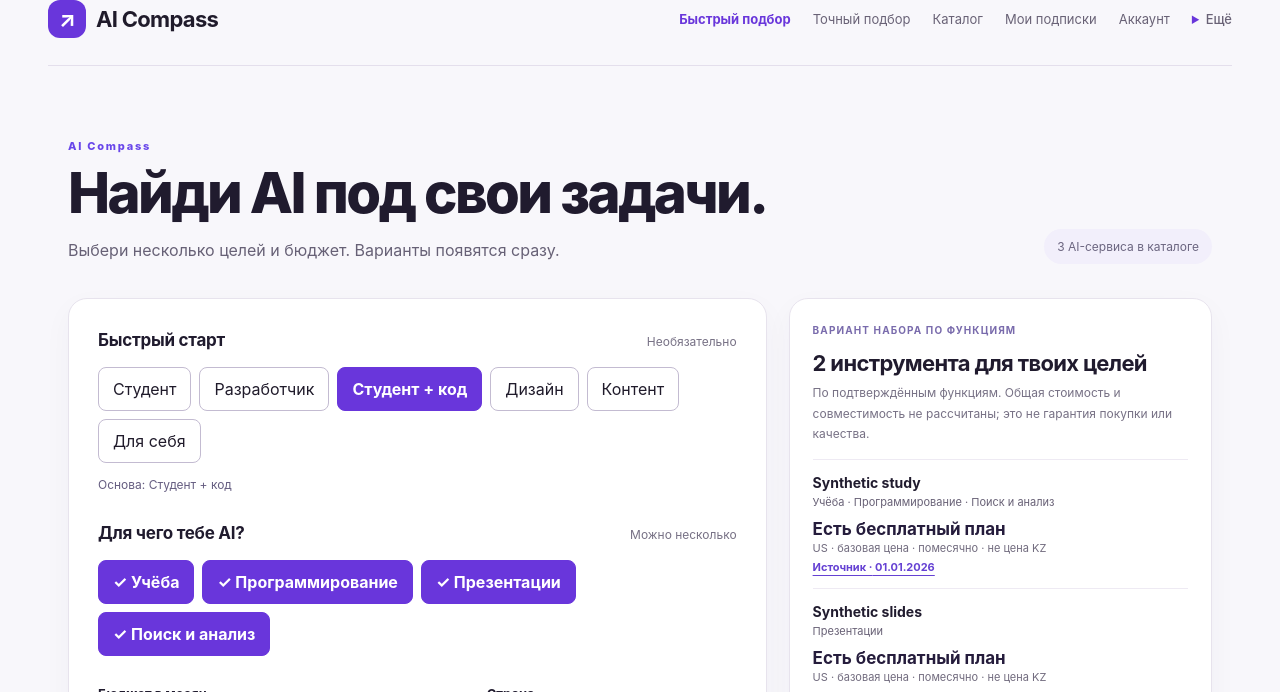
Test: quick and advanced navigation preserves only the mounted app draft without auto preview
Click the button "✓ Презентации" at (498,582), box [421, 560, 576, 604]
(page scrolled)
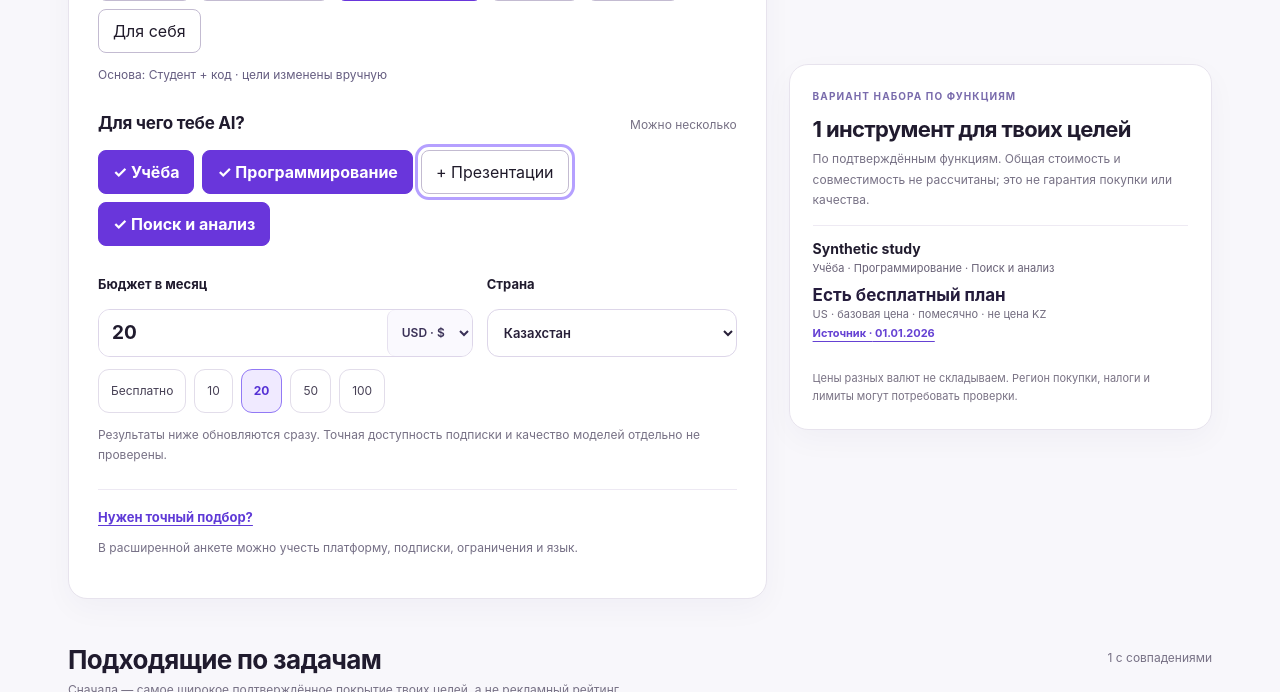
Replace the text in the field named "Месячный бюджет" with "42.50" at (243,333), box [99, 310, 387, 356]
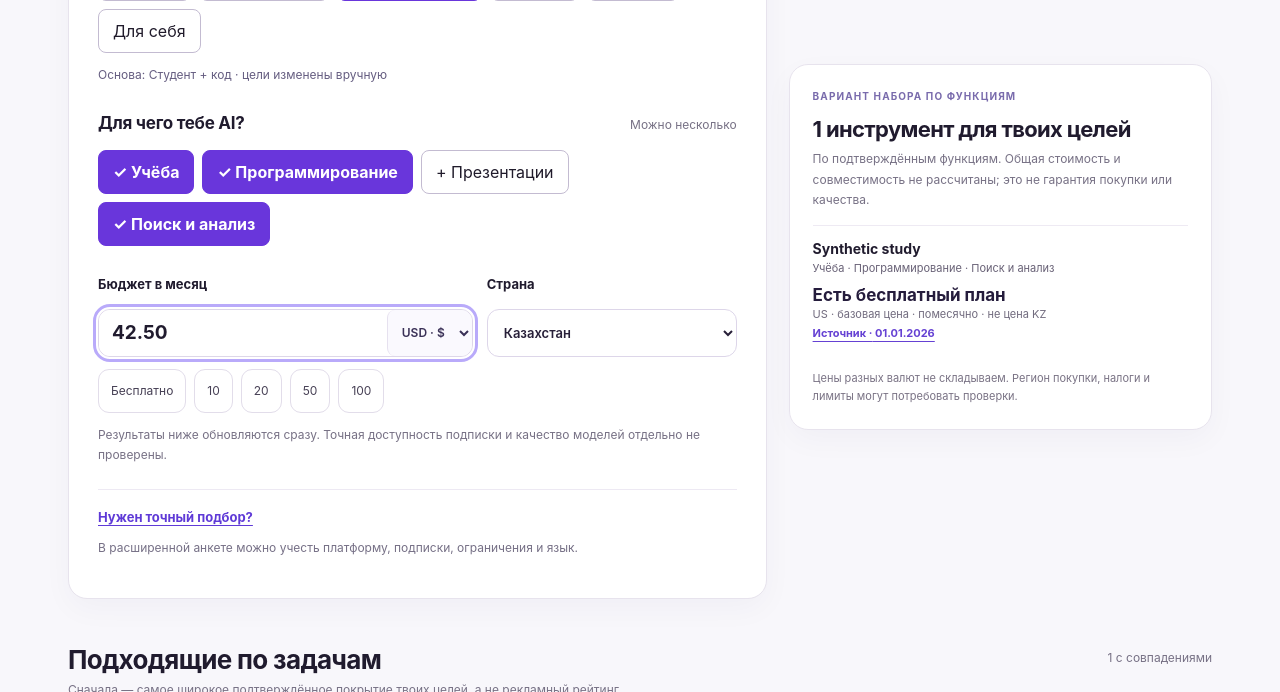
Select "CNY · ¥" in the dropdown named "Валюта бюджета" at (429,333), box [387, 310, 472, 356]
Click the link "Нужен точный подбор?" at (175,517), box [98, 509, 253, 525]
(page scrolled)
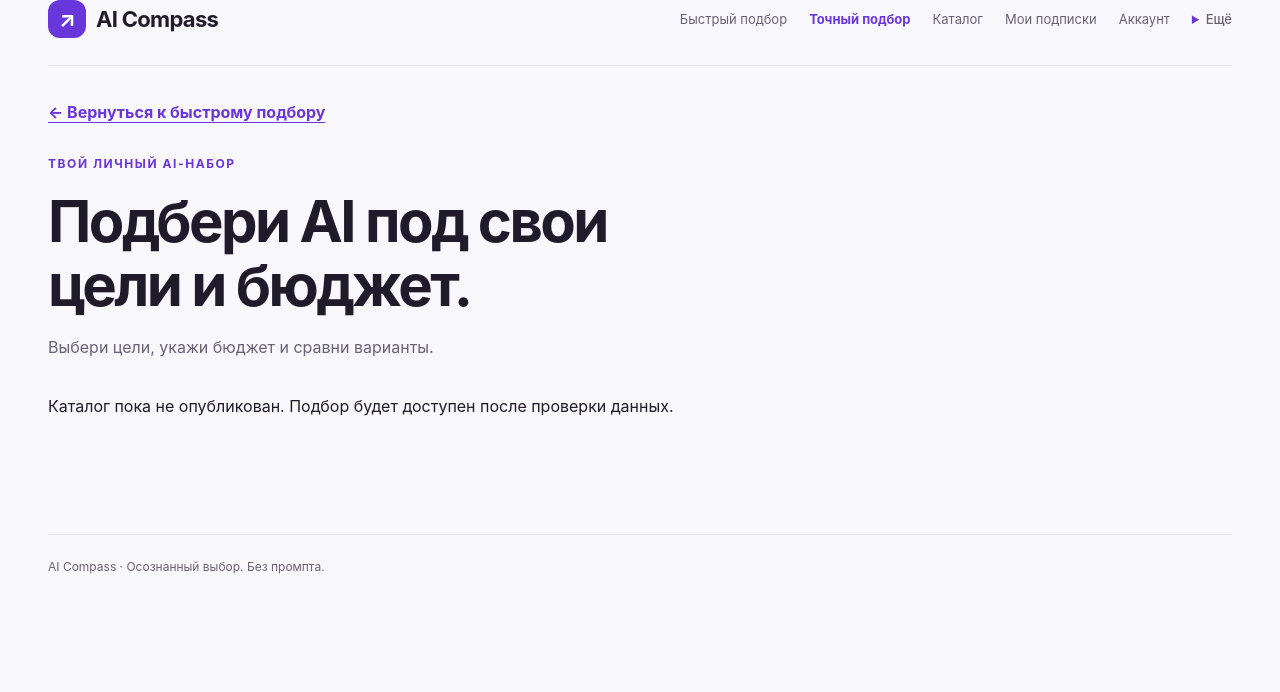
Click the link "← Вернуться к быстрому подбору" at (187,112), box [48, 102, 325, 122]
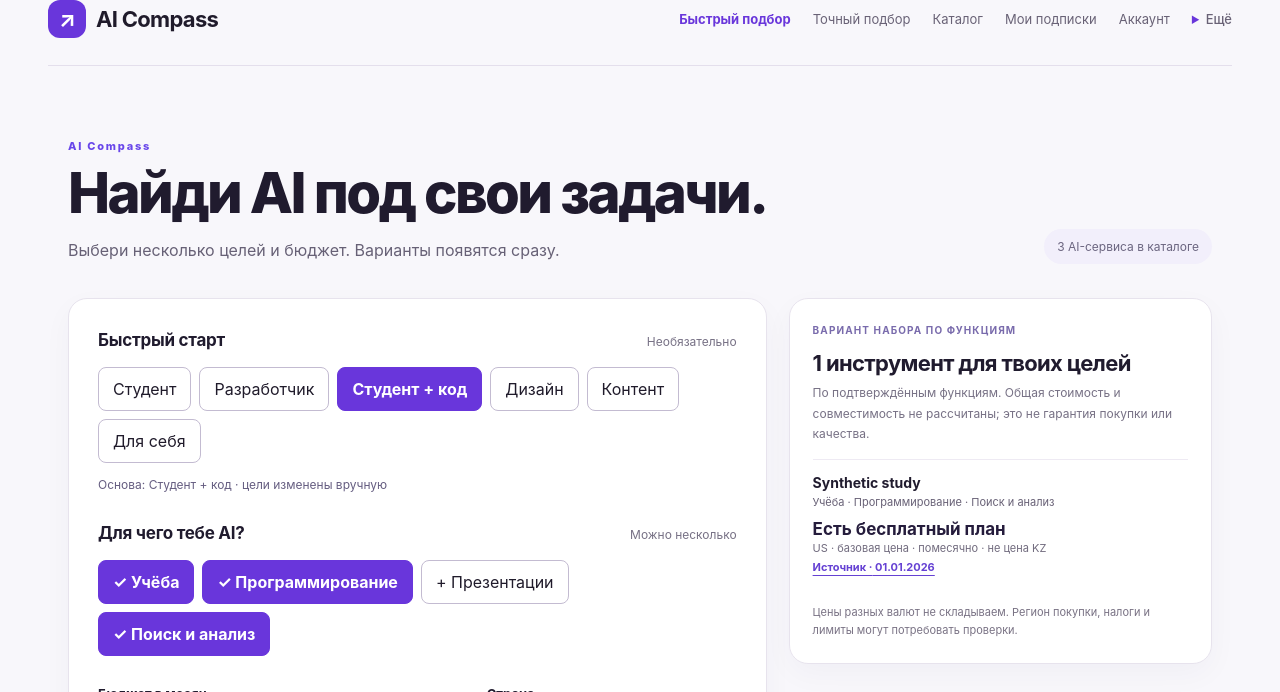
Check: the button "+ Презентации" is not pressed, box [421, 560, 569, 604]
Click the link "Точный подбор" at (862,18), box [813, 10, 911, 26]
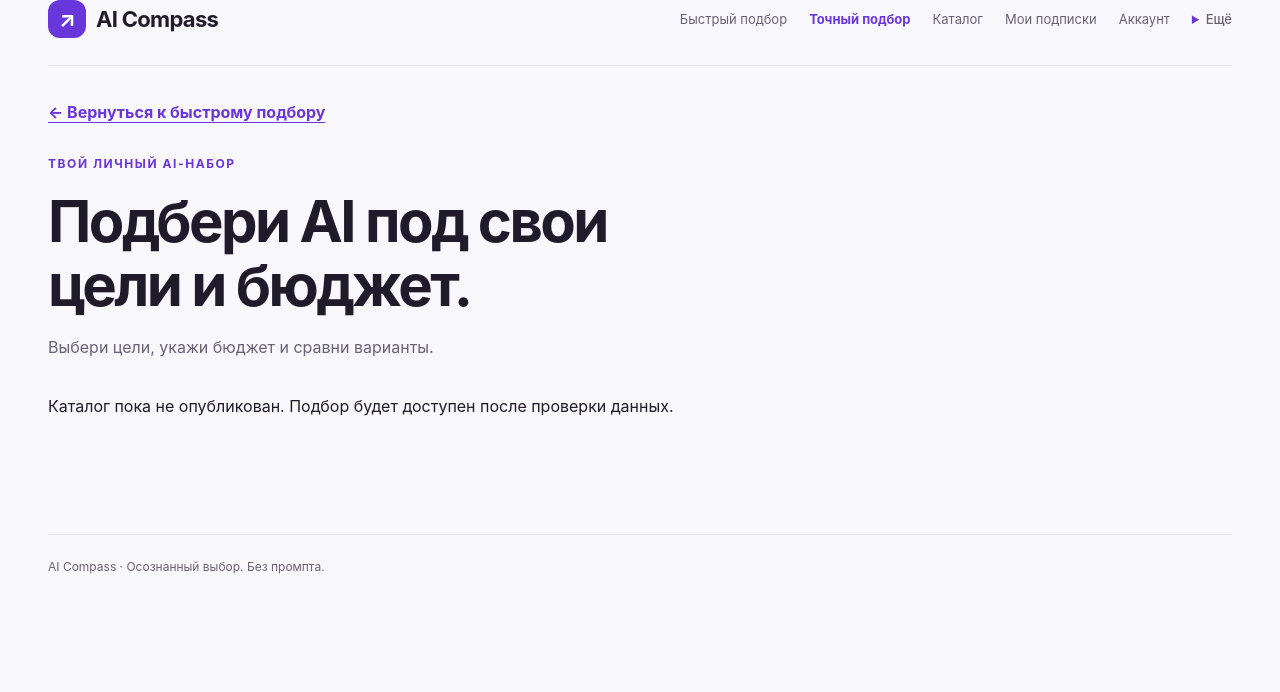
Click the link "Быстрый подбор" at (733,18), box [680, 10, 787, 26]
(page scrolled)
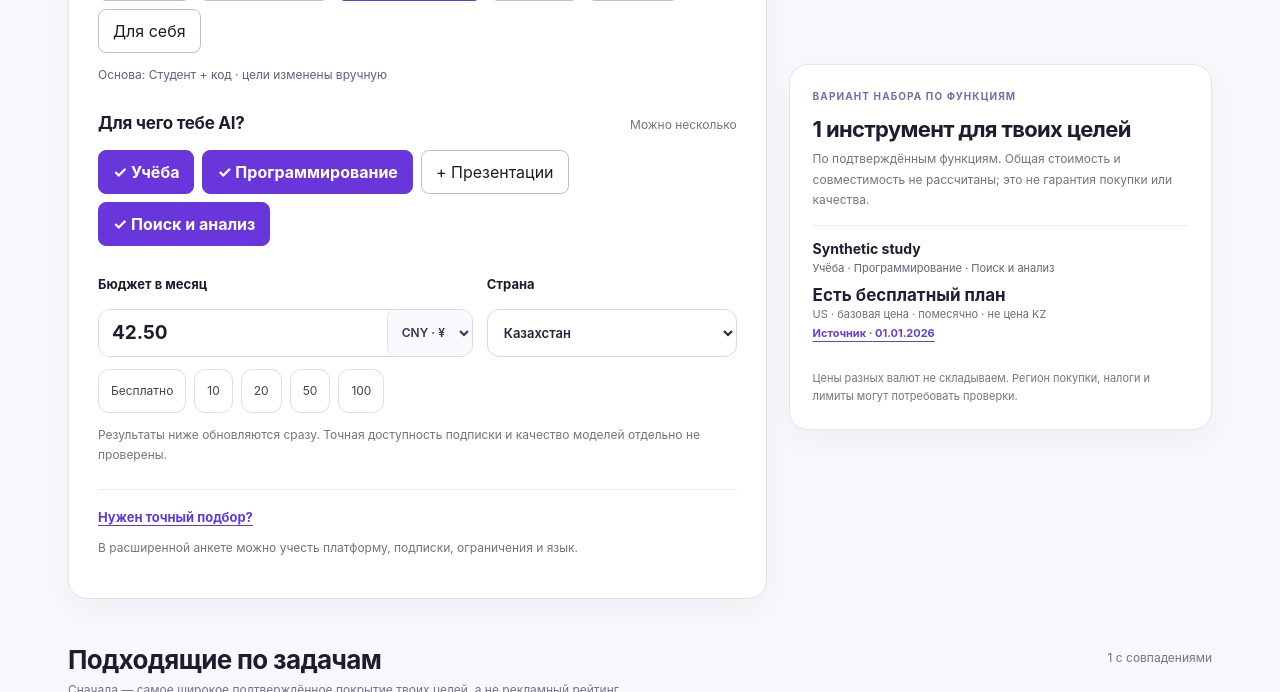
Check: the field named "Месячный бюджет" holds "42.50", box [99, 310, 387, 356]
